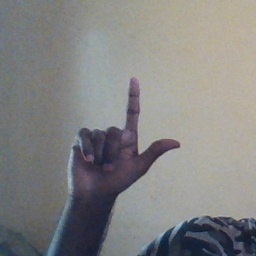L: (67, 75, 183, 197)
